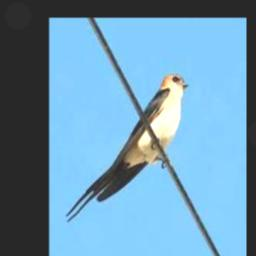Swallow: (65, 73, 189, 222)
